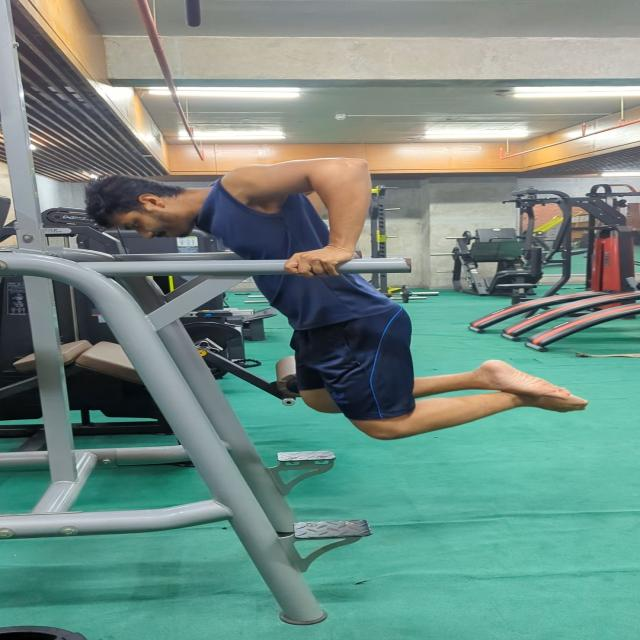Normal_Dips: (89, 150, 601, 443)
